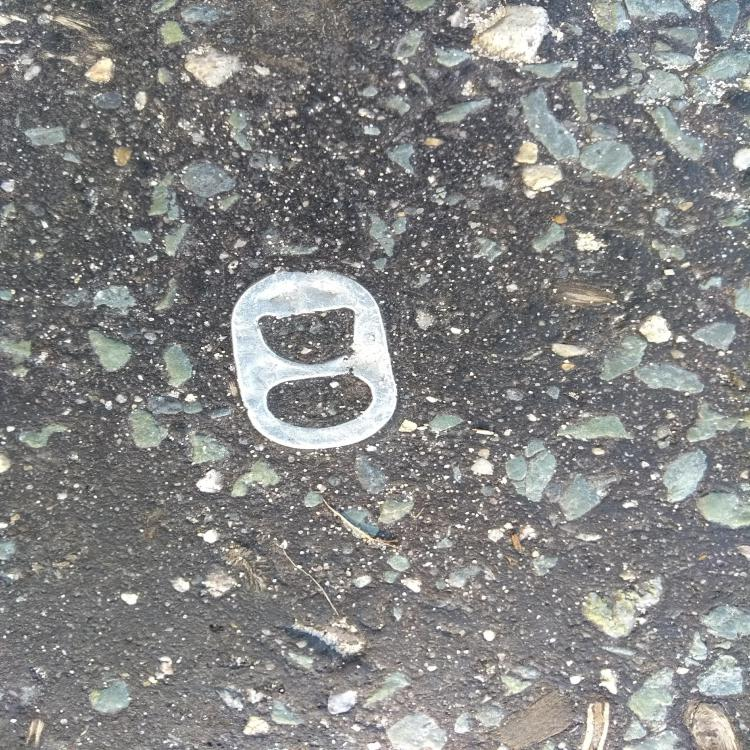Pop tab: (230, 270, 398, 449)
